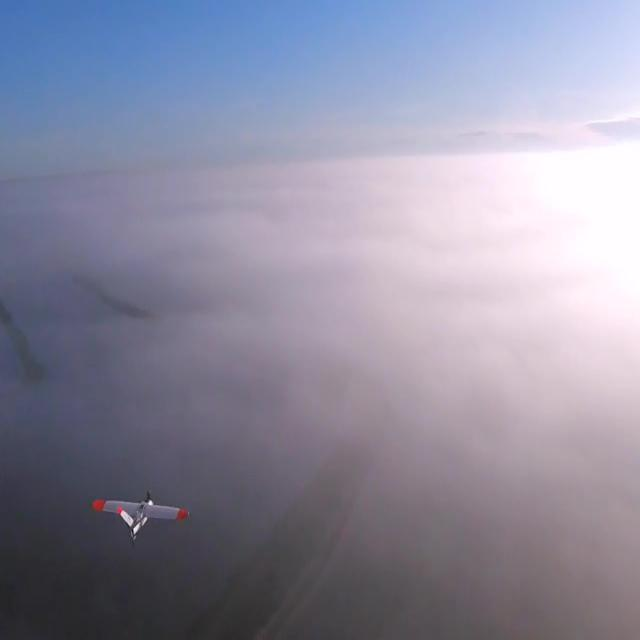iha: (118, 483, 150, 541)
